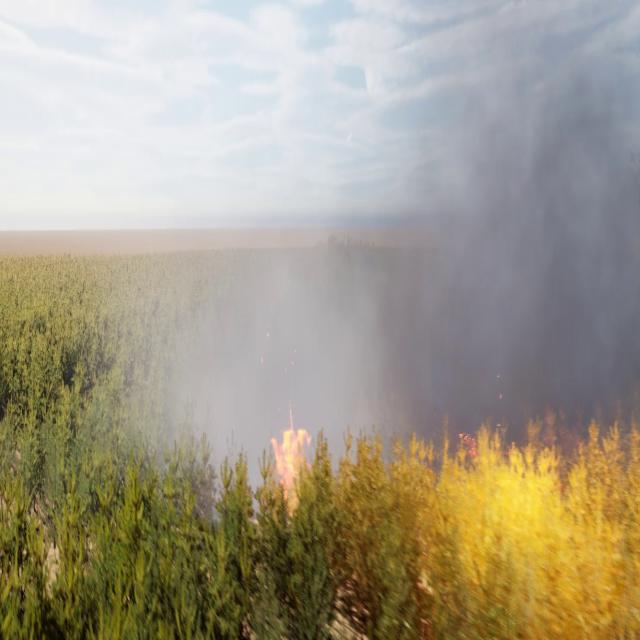fire: (435, 440, 640, 639), (270, 415, 321, 498)
smoke: (93, 0, 640, 499)
